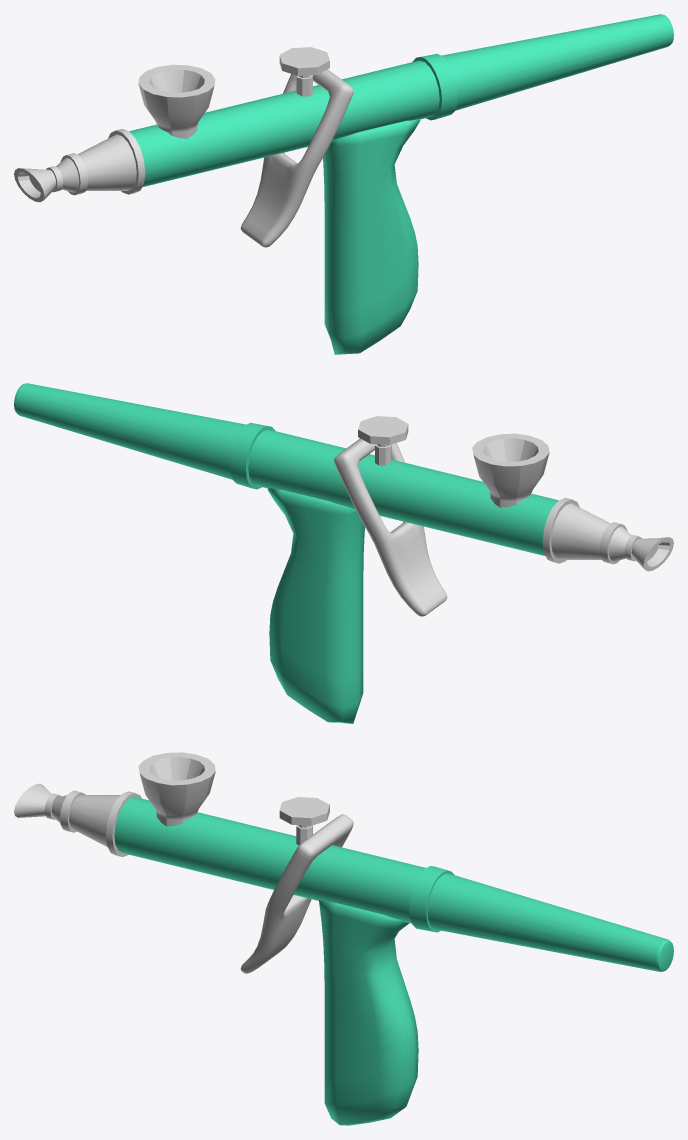
The model's file is Airbrush_L.fbx.
3 renders of one model, top to bottom at view 1: azimuth 30°, elevation 25°; view 2: azimuth 150°, elevation 25°; view 3: azimuth 330°, elevation 25°, orthographic.
Visible parts, largest first — view 1: body_L, triger_L; view 2: body_L, triger_L; view 3: body_L, triger_L.
Boxes of the visible parts, x1,y1,x2,y2 form: body_L: (14, 14, 673, 354); triger_L: (240, 69, 353, 247); body_L: (14, 383, 673, 723); triger_L: (334, 438, 447, 616); body_L: (14, 752, 673, 1125); triger_L: (240, 814, 353, 973).
Bounding box in the file's own units: 21.18 × 9.98 × 2.64.
